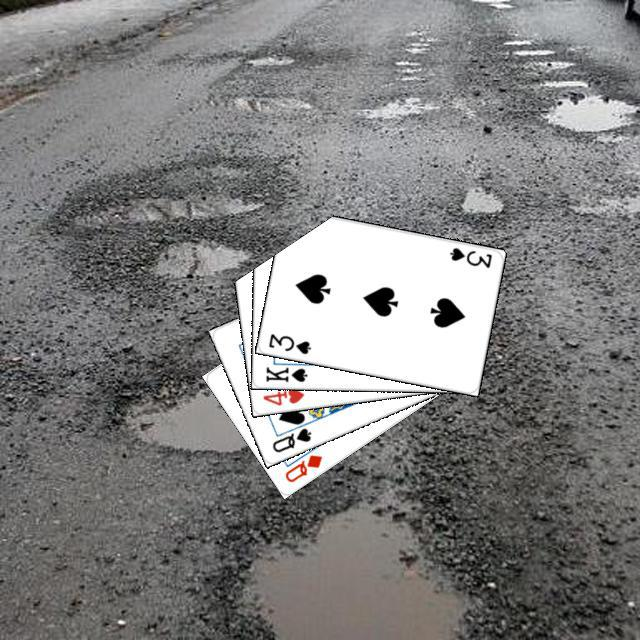3s: (264, 329, 313, 356), (445, 243, 494, 269)
4h: (258, 383, 306, 407)
Ks: (261, 362, 309, 384)
Qd: (280, 449, 324, 484)
Qs: (267, 423, 313, 454)
